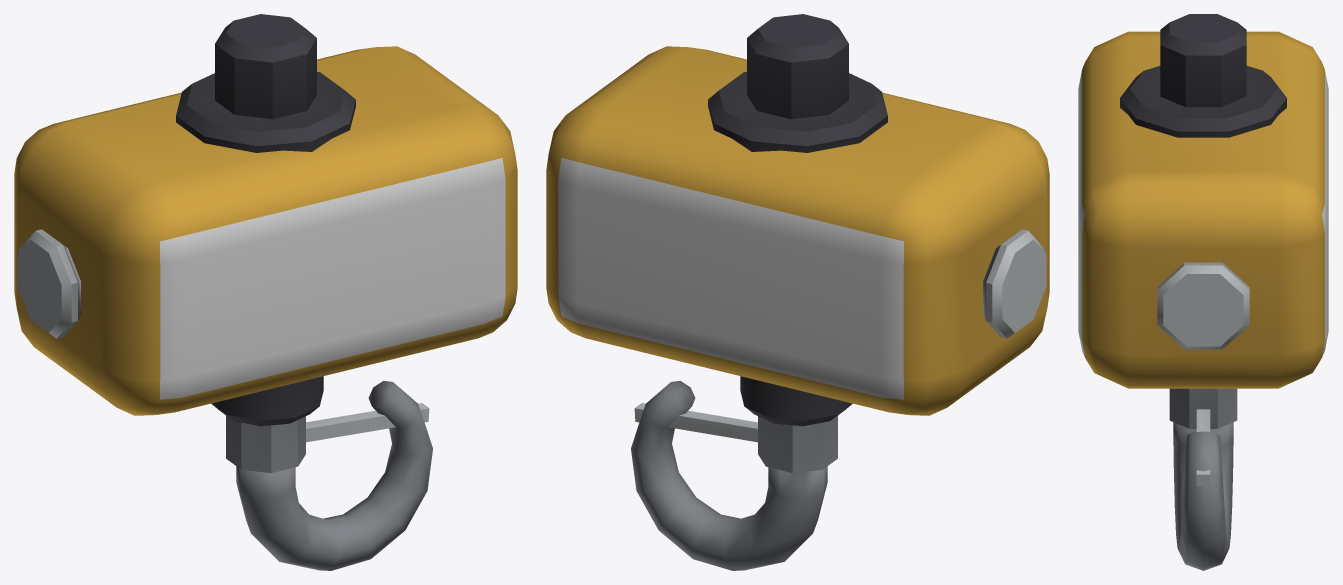
Rendered from CraneHook.fbx.
The picture shows the model from 3 angles, left to right: view 1: azimuth 30°, elevation 25°; view 2: azimuth 150°, elevation 25°; view 3: azimuth 270°, elevation 25°; orthographic projection. The views are drawn at different scales.
Parts seen in each view (by area): view 1: CraneHook; view 2: CraneHook; view 3: CraneHook.
Boxes of the visible parts, box(x1,y1,x2,y2) form: CraneHook: box(14, 14, 517, 570); CraneHook: box(546, 14, 1049, 570); CraneHook: box(1078, 14, 1328, 570).
Size of the model in its own units: 0.284 by 0.3313 by 0.15.
